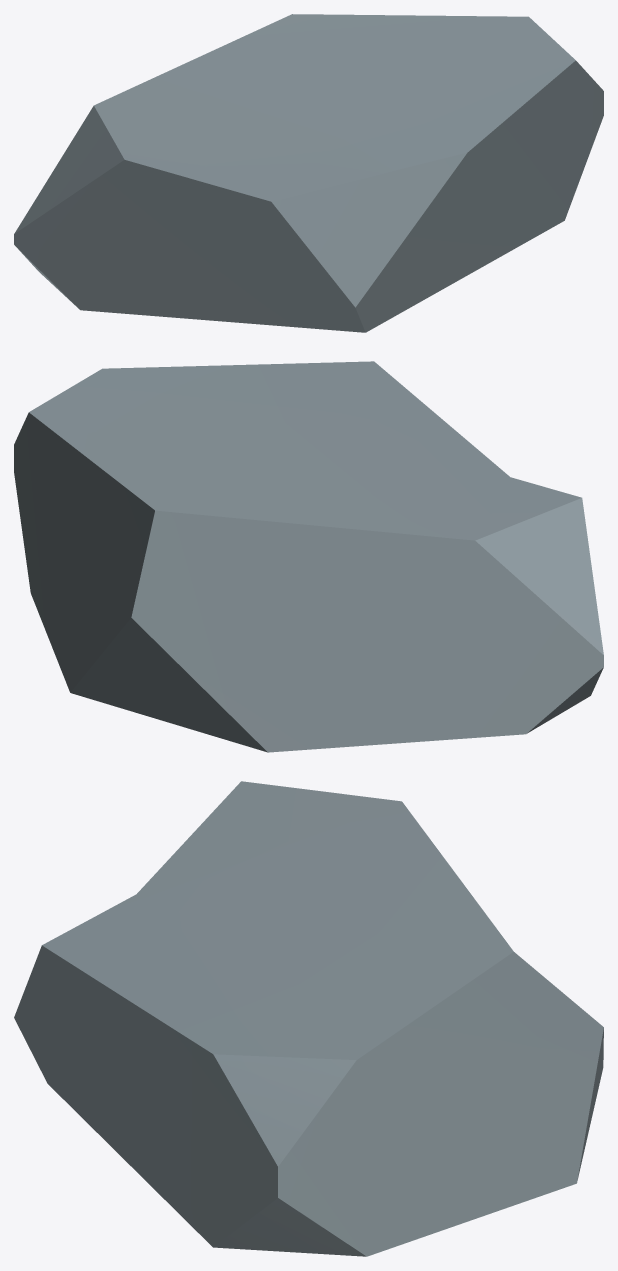
The model's file is rock_1.fbx.
3 renders of one model, top to bottom at view 1: azimuth 30°, elevation 25°; view 2: azimuth 150°, elevation 25°; view 3: azimuth 270°, elevation 25°, orthographic. The views are drawn at different scales.
Visible parts, largest first — view 1: rock_1; view 2: rock_1; view 3: rock_1.
Part boxes in pixels (left/top/right/bottom): rock_1: left=14, top=14, right=603, bottom=332; rock_1: left=14, top=361, right=603, bottom=752; rock_1: left=14, top=781, right=603, bottom=1256.
Bounding box in the file's own units: 399 × 108 × 287.
